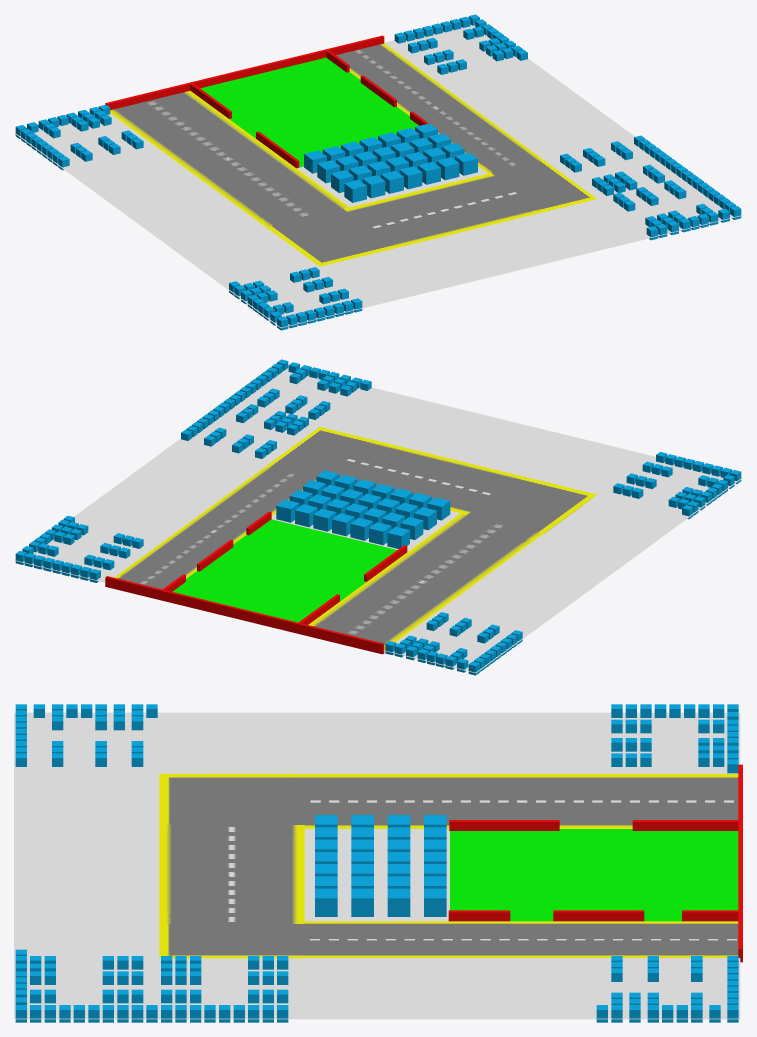
Rendered from map.obj.
3 views of the same model, one above another, from view 1: azimuth 30°, elevation 25°; view 2: azimuth 150°, elevation 25°; view 3: azimuth 270°, elevation 25° (orthographic). The views are drawn at different scales.
Parts seen in each view (by area): view 1: Map alley_Top, alley_Left Map, Map Roads Road1 group5, Map Park Park, Map alley_Right, Map Roads group5 Road3, Map Roads group5 Road2, Map Roads group5 Road5, Map pPlane1 Edge_Top_Right, Map pPlane1 Corner_Bottom_Left, Map pPlane1 Corner_Bottom_Right, Map Roads group5 Road4 (+5 smaller); view 2: Map alley_Top, alley_Left Map, Map Park Park, Map Roads Road1 group5, Map alley_Right, Map Roads group5 Road3, Map Roads group5 Road2, Map Roads group5 Road5, Map pPlane1 Edge_Top_Right, Map Roads group5 Road4, Map pPlane1 Corner_Top_Right, Map pPlane1 Corner_Top_Left (+6 smaller); view 3: alley_Left Map, Map alley_Top, Map Park Park, Map Roads Road1 group5, Map alley_Right, Map Roads group5 Road3, Map Roads group5 Road2, Map Roads group5 Road5, Map pPlane1 Corner_Top_Left, Map pPlane1 Corner_Bottom_Right, Map pPlane Center, Map pPlane1 Corner_Bottom_Left (+12 smaller).
Boxes of the visible parts, x1,y1,x2,y2 form: Map alley_Top: (320, 199, 650, 305); alley_Left Map: (67, 149, 319, 289); Map Roads Road1 group5: (110, 91, 349, 227); Map Park Park: (200, 57, 418, 167); Map alley_Right: (437, 59, 634, 159); Map Roads group5 Road3: (336, 43, 543, 173); Map Roads group5 Road2: (344, 173, 545, 247); Map Roads group5 Road5: (267, 209, 396, 266); Map pPlane1 Edge_Top_Right: (544, 138, 681, 198); Map pPlane1 Corner_Bottom_Left: (14, 113, 159, 171); Map pPlane1 Corner_Bottom_Right: (384, 24, 528, 81); Map Roads group5 Road4: (491, 160, 596, 211); Map alley_Top: (320, 388, 650, 494); alley_Left Map: (437, 494, 689, 634); Map Park Park: (172, 519, 396, 622); Map Roads Road1 group5: (308, 513, 543, 649); Map alley_Right: (74, 443, 265, 543); Map Roads group5 Road3: (114, 466, 316, 589); Map Roads group5 Road2: (328, 439, 519, 514); Map Roads group5 Road5: (467, 476, 596, 533); Map pPlane1 Edge_Top_Right: (174, 406, 319, 465); Map Roads group5 Road4: (266, 427, 371, 477); Map pPlane1 Corner_Top_Right: (235, 367, 372, 426); Map pPlane1 Corner_Top_Left: (597, 455, 742, 516); alley_Left Map: (159, 712, 594, 773); Map alley_Top: (14, 774, 159, 957); Map Park Park: (450, 829, 738, 921); Map Roads Road1 group5: (304, 774, 738, 828); Map alley_Right: (304, 958, 594, 1019); Map Roads group5 Road3: (304, 921, 738, 957); Map Roads group5 Road2: (159, 825, 304, 923); Map Roads group5 Road5: (159, 773, 304, 824); Map pPlane1 Corner_Top_Left: (14, 712, 159, 773); Map pPlane1 Corner_Bottom_Right: (595, 958, 740, 1019); Map pPlane Center: (304, 829, 449, 921); Map pPlane1 Corner_Bottom_Left: (595, 712, 740, 773).
Size of the model in its own units: 500 by 19.62 by 502.
Materials: 6 (6 with a texture image).
